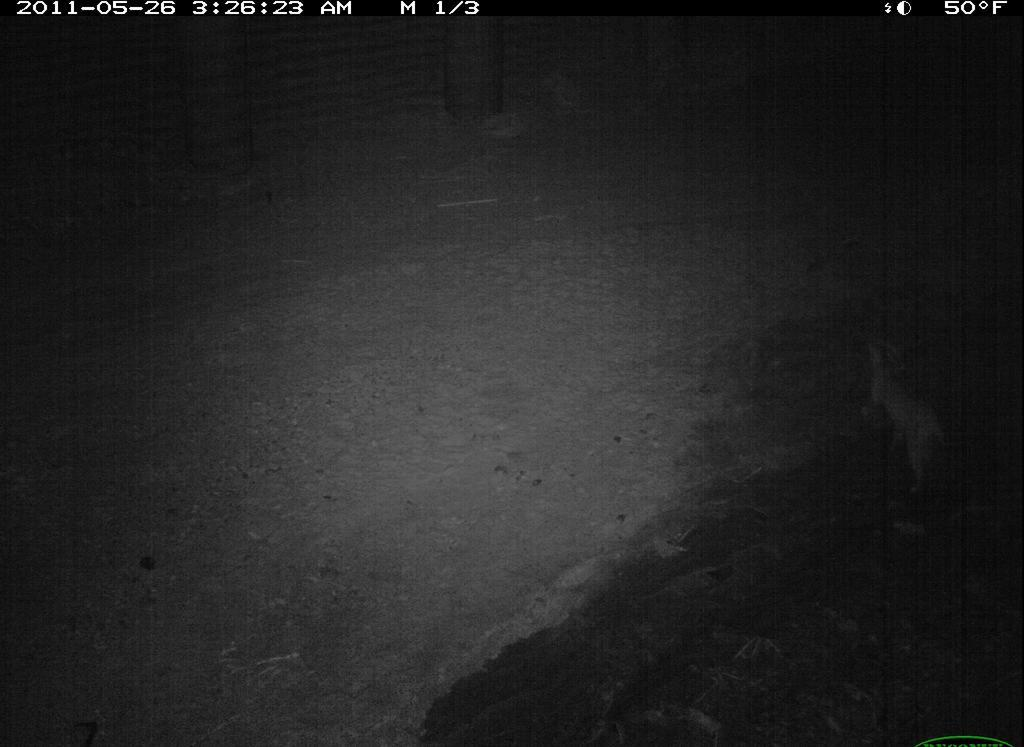bobcat: (841, 332, 961, 507)
